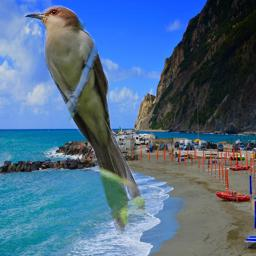Cuckoo: (24, 5, 145, 235)
